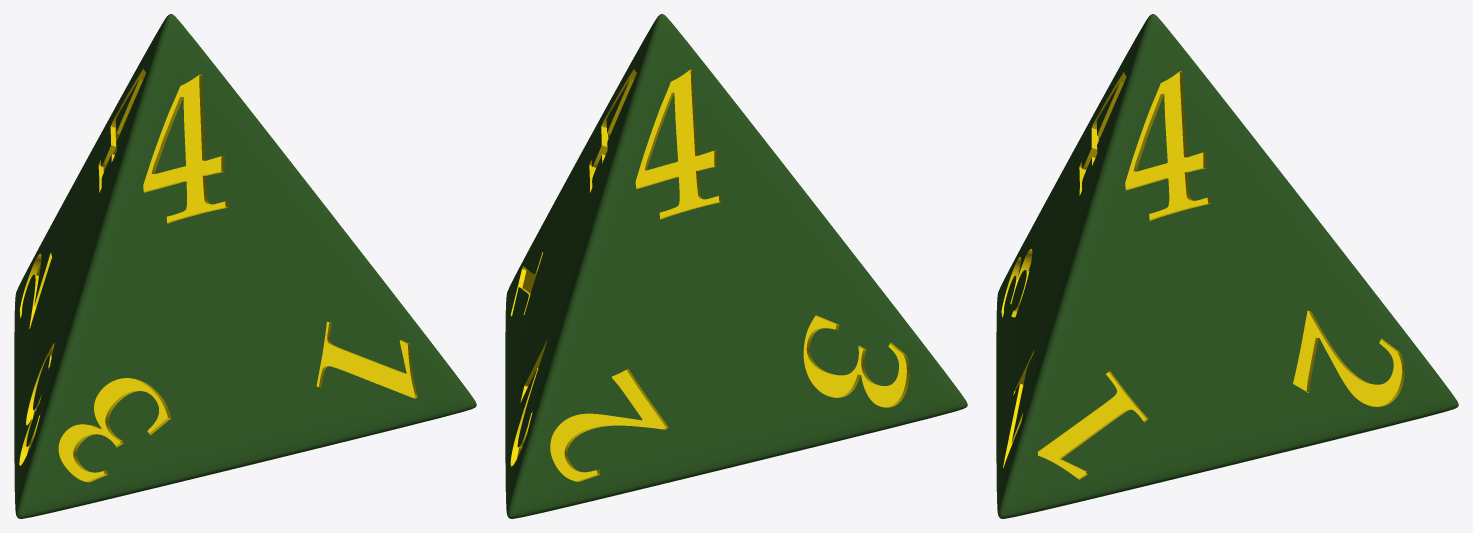
3 views of the same model, side by side, from view 1: azimuth 30°, elevation 25°; view 2: azimuth 150°, elevation 25°; view 3: azimuth 270°, elevation 25° (orthographic).
Visible parts, largest first — view 1: D4; view 2: D4; view 3: D4.
Part boxes in pixels (left/top/right/bottom): D4: left=14, top=14, right=476, bottom=518; D4: left=505, top=14, right=967, bottom=518; D4: left=996, top=14, right=1458, bottom=518.
Size of what is drawn, in the model's own units: 0.304 by 0.2512 by 0.265.
